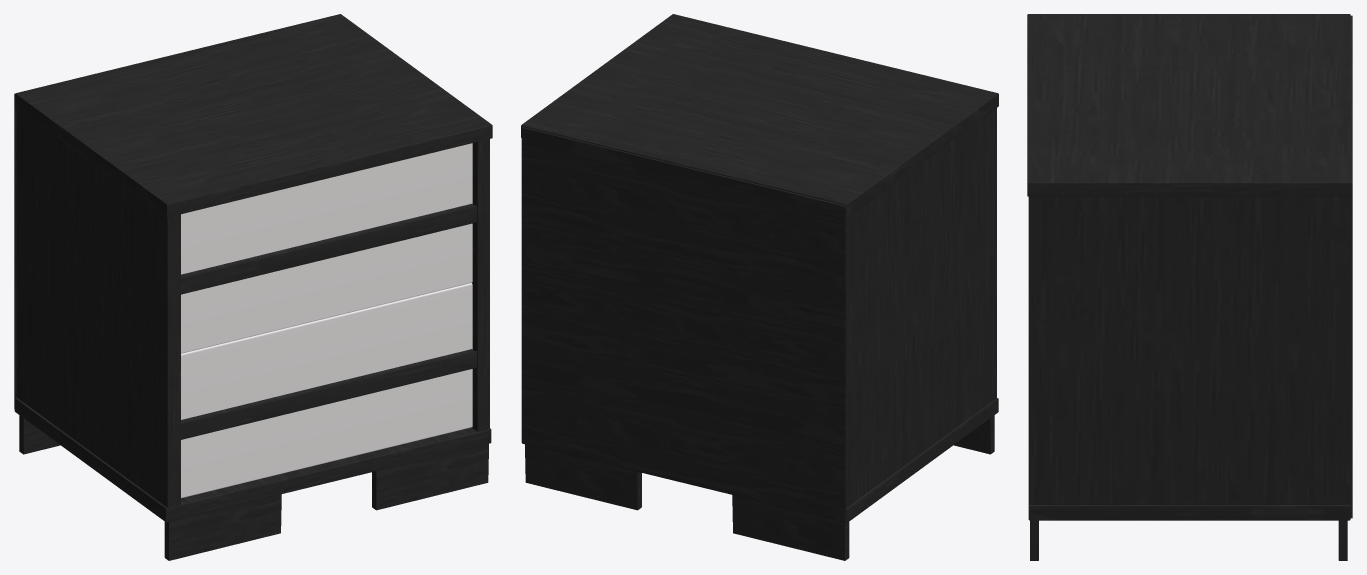
File: abo-B07GFRKNNH.glb
3 renders of one model, left to right at view 1: azimuth 30°, elevation 25°; view 2: azimuth 150°, elevation 25°; view 3: azimuth 270°, elevation 25°, orthographic. The views are drawn at different scales.
Size of the model in its own units: 0.427 by 0.448 by 0.347.
1 material, 1 textured.
